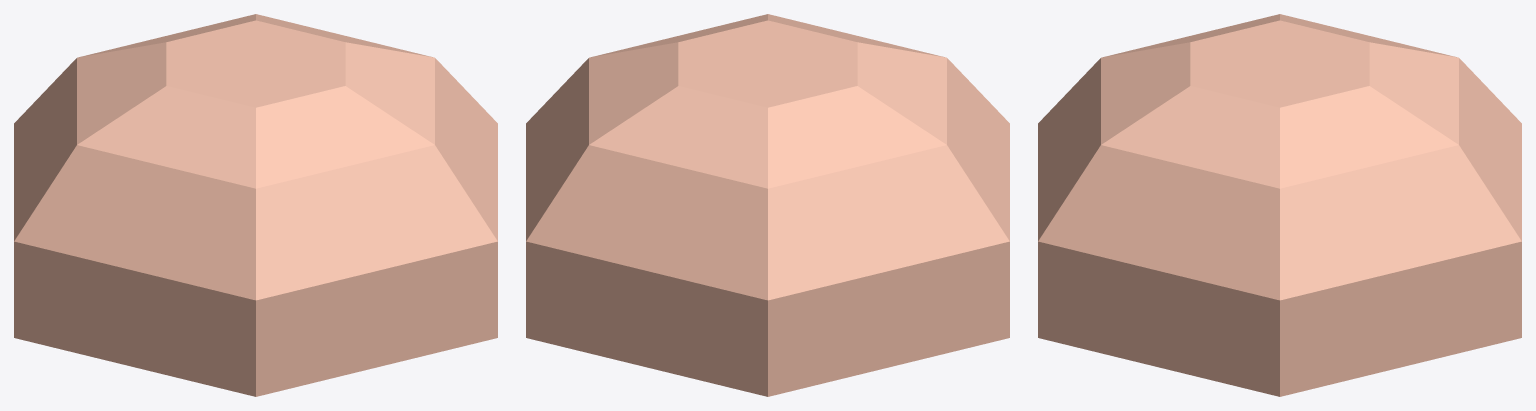
The model's file is meteor_half.glb.
3 views of the same model, side by side, from view 1: azimuth 30°, elevation 25°; view 2: azimuth 150°, elevation 25°; view 3: azimuth 270°, elevation 25° (orthographic).
Parts seen in each view (by area): view 1: meteor_half; view 2: meteor_half; view 3: meteor_half.
Boxes of the visible parts, x1=… form: meteor_half: x1=14, y1=14, x2=497, y2=396; meteor_half: x1=526, y1=14, x2=1009, y2=396; meteor_half: x1=1038, y1=14, x2=1521, y2=396.
Bounding box in the file's own units: 0.866 × 0.3675 × 0.75.
Materials: 1 (1 with a texture image).
